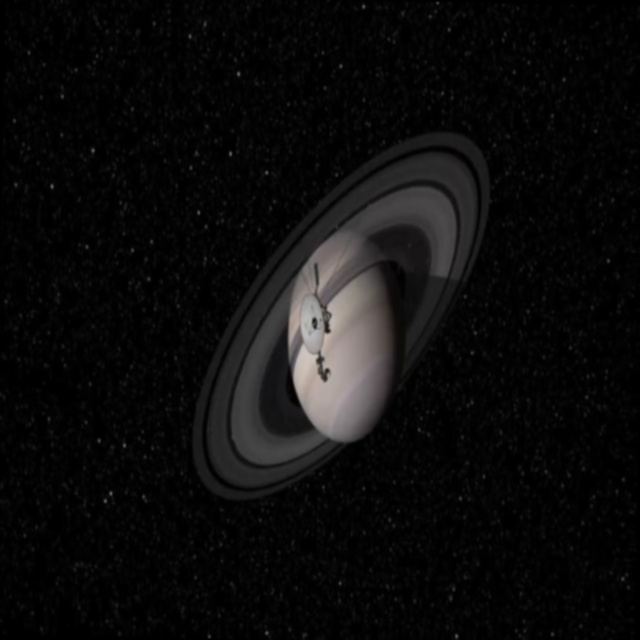satellite: (291, 230, 356, 397)
